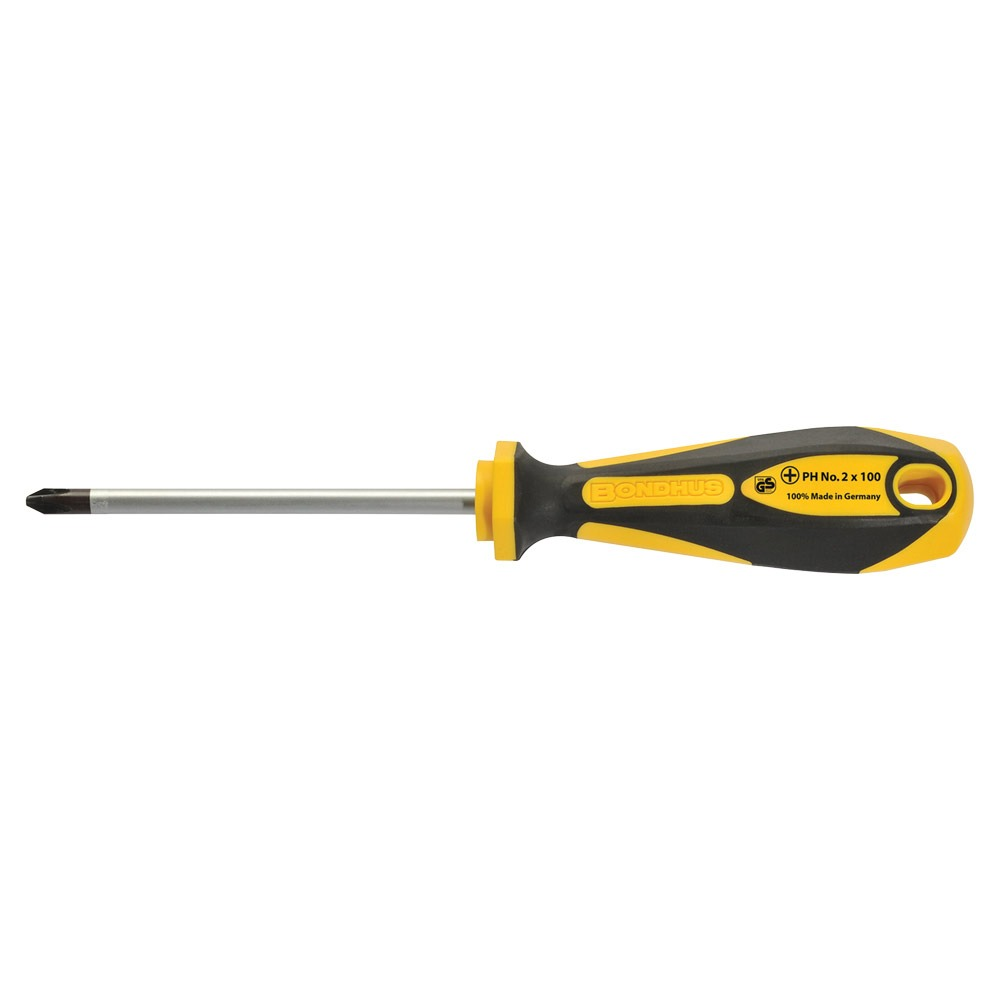screwdriver: (21, 407, 979, 588)
